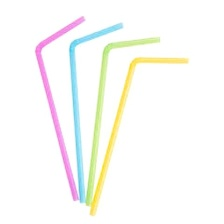drinking_straw: (86, 51, 193, 220), (82, 31, 164, 207), (65, 19, 127, 205), (32, 11, 90, 204)
